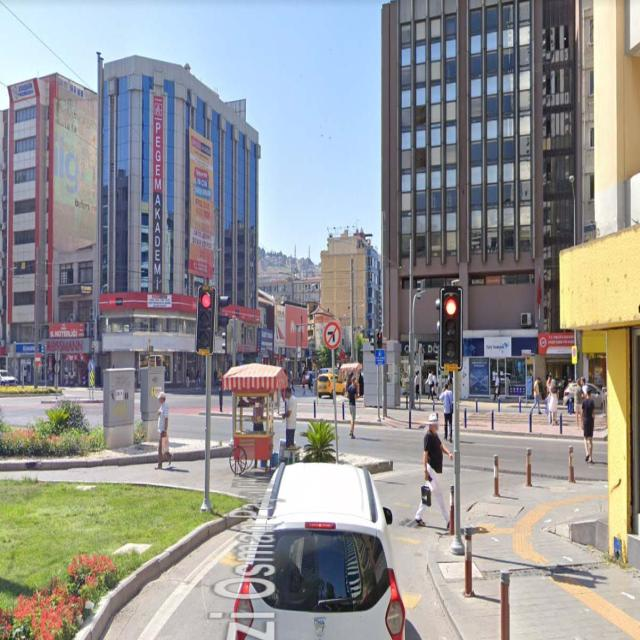girisyok: (34, 354, 40, 364)
kirmizi: (441, 287, 459, 369), (198, 287, 211, 353)
soladonulmez: (324, 321, 340, 348)
